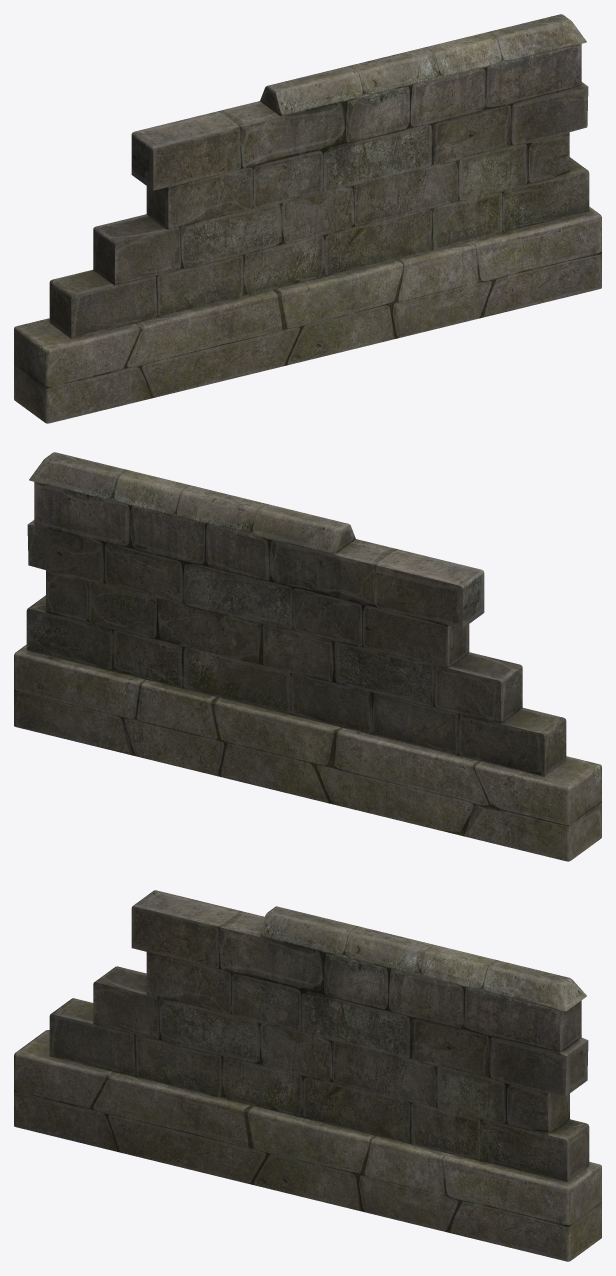
Rendered from old-stone-wall.glb.
The picture shows the model from 3 angles, top to bottom: view 1: azimuth 30°, elevation 25°; view 2: azimuth 150°, elevation 25°; view 3: azimuth 330°, elevation 25°; orthographic projection.
Parts seen in each view (by area): view 1: old_stone_wall; view 2: old_stone_wall; view 3: old_stone_wall.
Part boxes in pixels (x1=…): old_stone_wall: x1=14, y1=14, x2=601, y2=423; old_stone_wall: x1=14, y1=452, x2=601, y2=861; old_stone_wall: x1=14, y1=890, x2=601, y2=1261.
Bounding box in the file's own units: 6.18 × 2.8 × 0.6511.
1 material, 1 textured.
